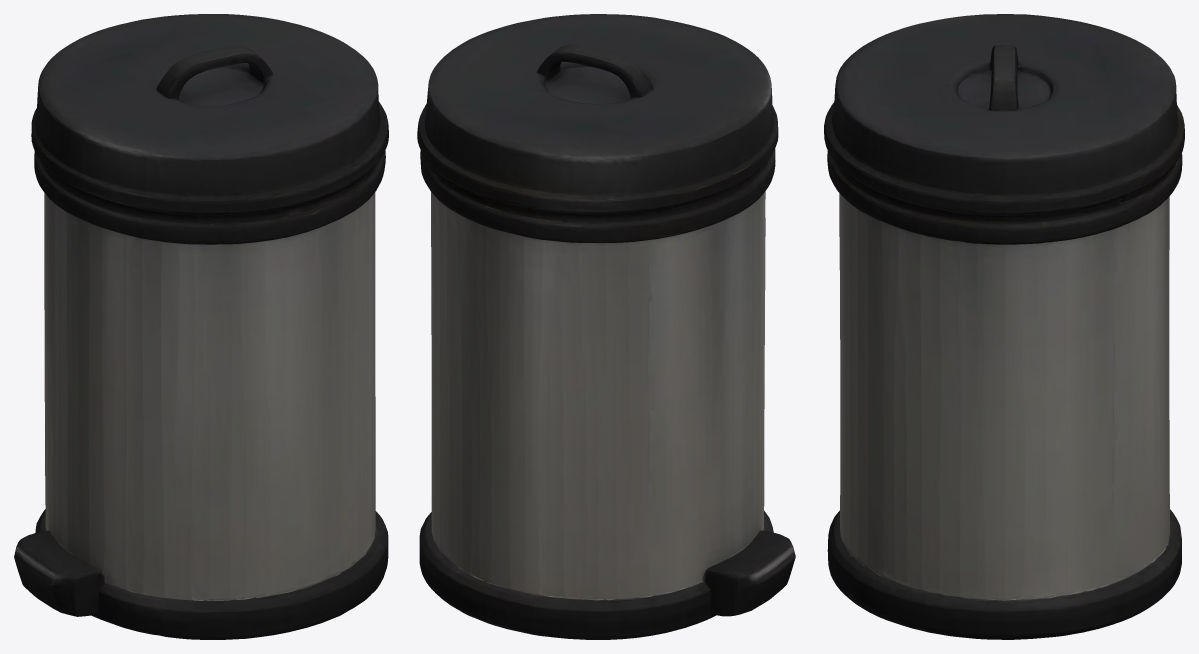
File: trashcan.glb
3 views of the same model, side by side, from view 1: azimuth 30°, elevation 25°; view 2: azimuth 150°, elevation 25°; view 3: azimuth 270°, elevation 25° (orthographic).
Visible parts, largest first — view 1: world; view 2: world; view 3: world.
Boxes of the visible parts, left/top/right/bottom form: world: left=14, top=14, right=388, bottom=639; world: left=417, top=14, right=795, bottom=639; world: left=824, top=14, right=1184, bottom=639.
Bounding box in the file's own units: 0.6827 × 0.9993 × 0.6374.
1 material, 1 textured.
